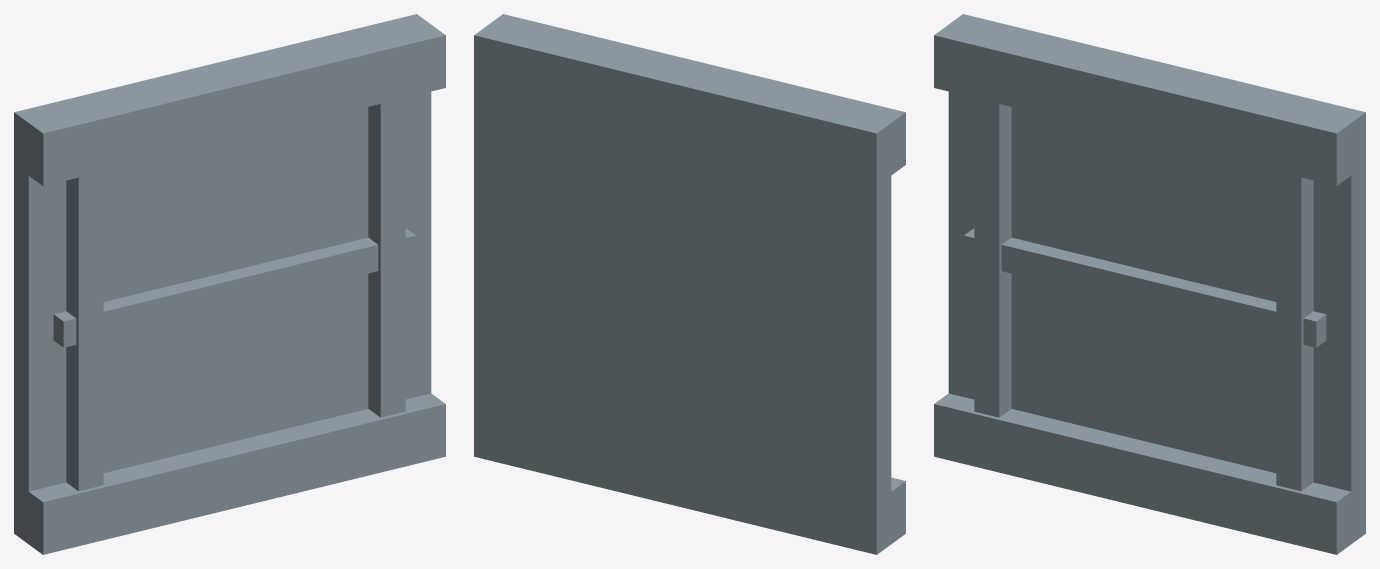
The model's file is wall-conservative.glb.
3 renders of one model, left to right at view 1: azimuth 30°, elevation 25°; view 2: azimuth 150°, elevation 25°; view 3: azimuth 330°, elevation 25°, orthographic.
Visible parts, largest first — view 1: wall-conservative; view 2: wall-conservative; view 3: wall-conservative.
Part boxes in pixels (x1,y1,x2,y2): wall-conservative: (14, 14, 445, 554); wall-conservative: (474, 14, 905, 554); wall-conservative: (934, 14, 1365, 554).
Size of the model in its own units: 2 by 2 by 0.25.
